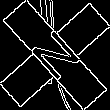N_SE: (23, 23, 87, 87)
